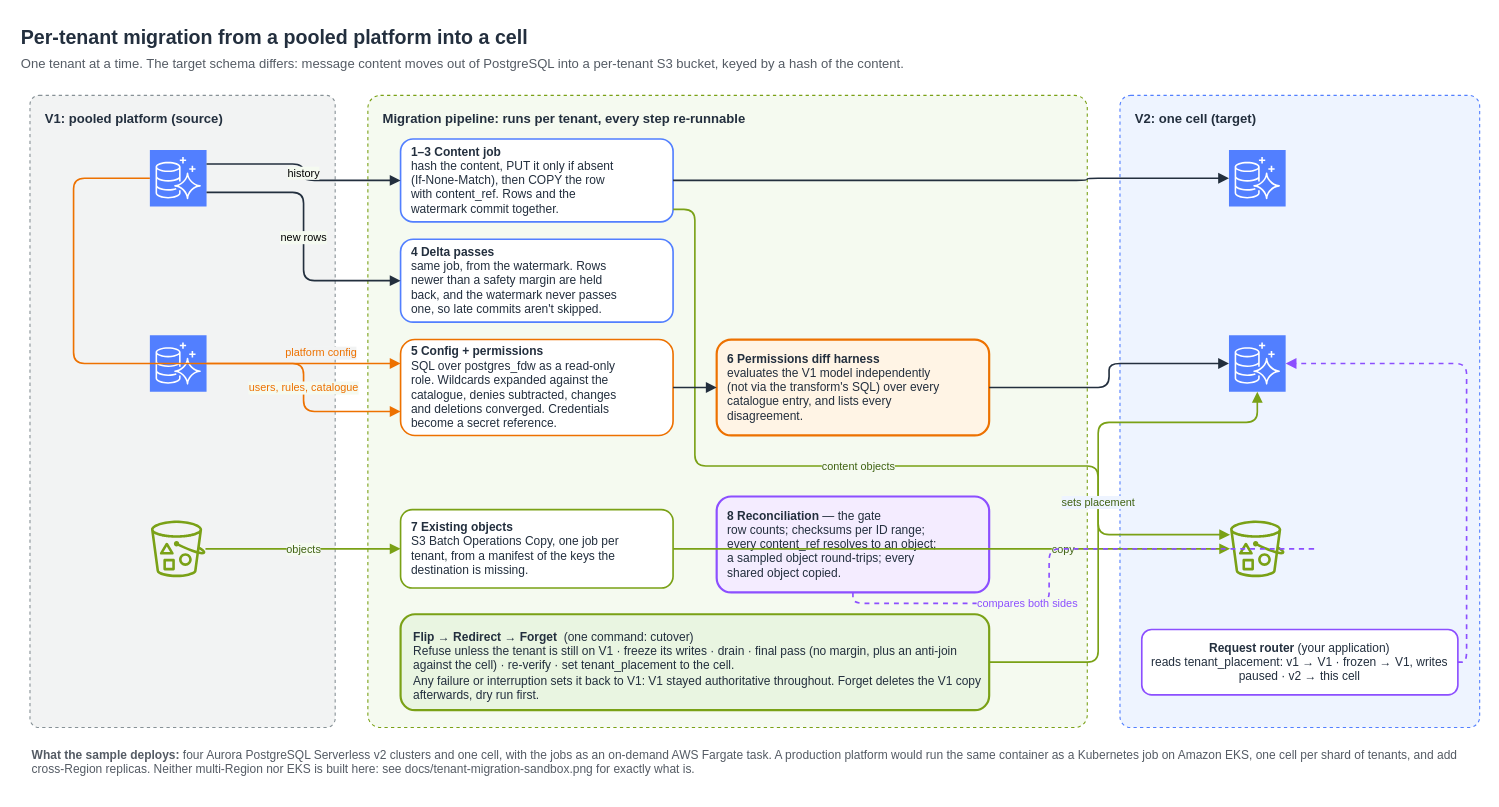
Some shapes in this 1499 by 807 pixel diagram are drawn without their labels. Here are the shapes that lost their labels. From the top down, the centre of each, then its label:
pixel 178 178: Messaging database Aurora PostgreSQL content stored in the row
pixel 1257 178: Cell messaging database Aurora PostgreSQL content_ref, not content
pixel 178 363: Auth database users, roles, rules + application catalogue
pixel 1257 363: Management database principals, grants, connectors + tenant_placement (routing)
pixel 177 548: Shared bucket one prefix per tenant
pixel 1257 548: Per-tenant bucket content keyed by hash, copied objects under originals/
